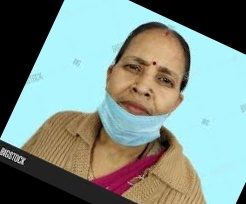mask_weared_incorrect: (100, 29, 185, 142)
